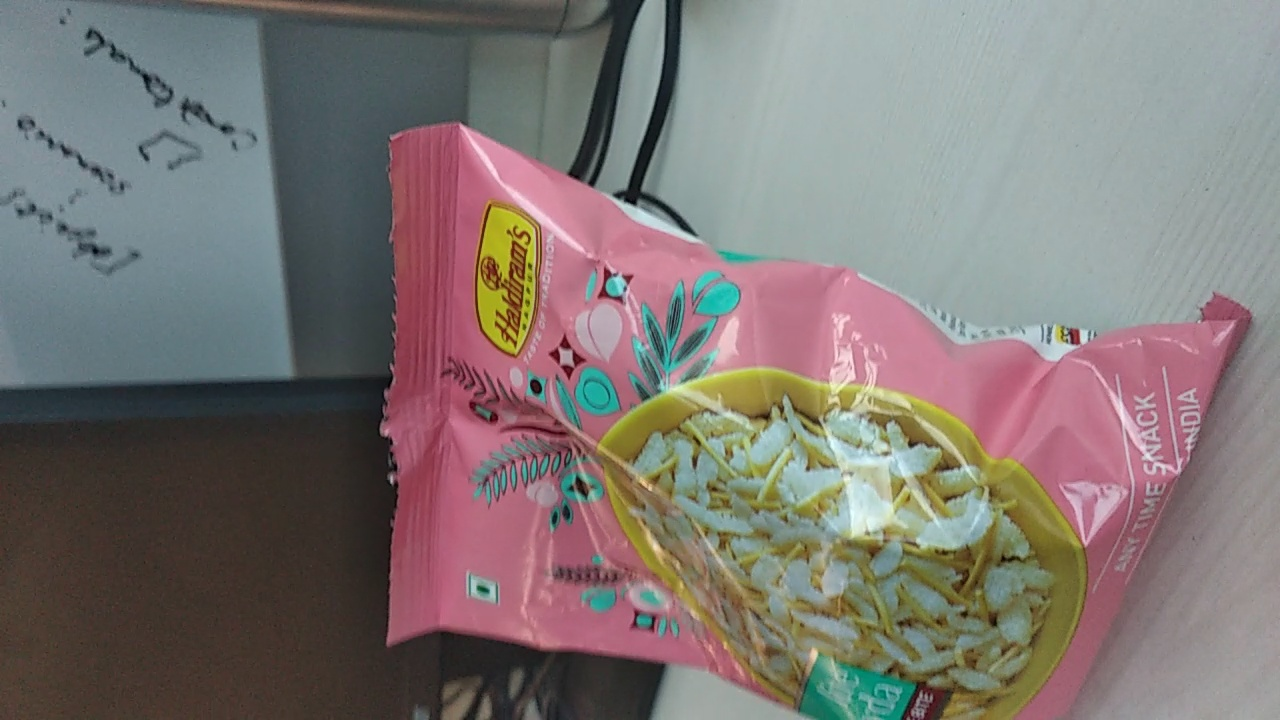liteSnack: (364, 125, 1252, 718)
